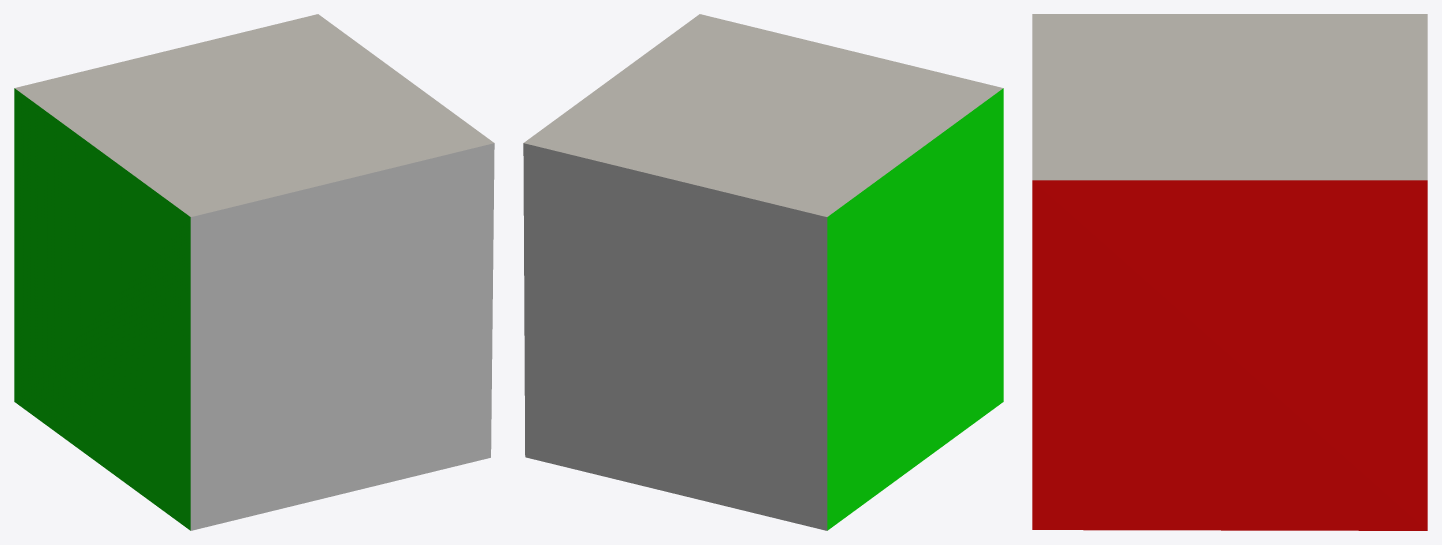
Rendered from box-advanced.obj.
3 views of the same model, side by side, from view 1: azimuth 30°, elevation 25°; view 2: azimuth 150°, elevation 25°; view 3: azimuth 270°, elevation 25° (orthographic). The views are drawn at different scales.
Parts seen in each view (by area): view 1: CornellBox-advanced; view 2: CornellBox-advanced; view 3: CornellBox-advanced.
Boxes of the visible parts, x1,y1,x2,y2 form: CornellBox-advanced: (14,14,494,530); CornellBox-advanced: (523,14,1003,530); CornellBox-advanced: (1032,14,1427,530).
Size of the model in its own units: 5.56 by 5.49 by 5.59.
